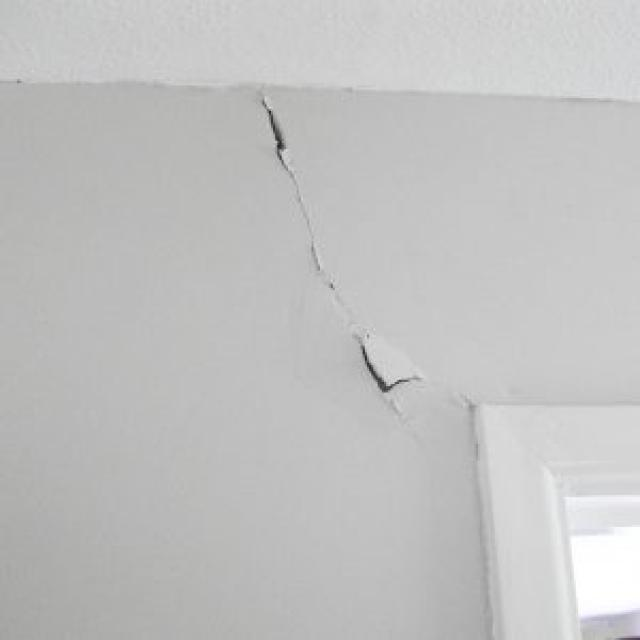Crack: (258, 87, 423, 390)
